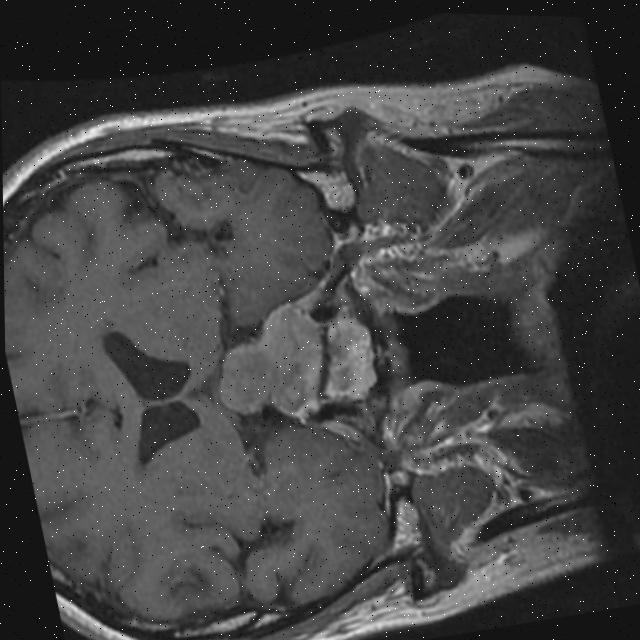Pituitary: (202, 297, 337, 429), (308, 310, 382, 403)
